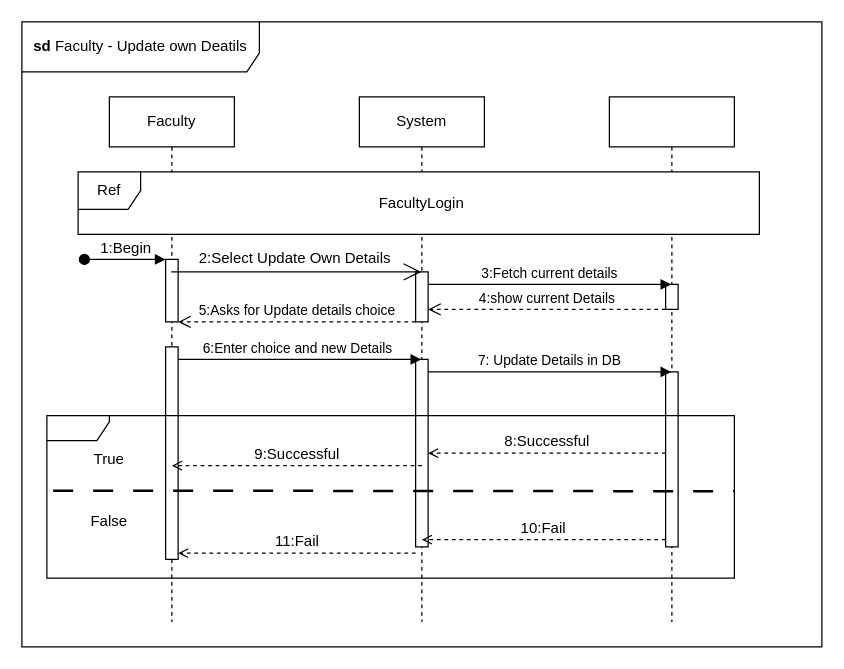
Image size: 844x669. Some labels were removed from this diagram. Each missing label, with the centre of its shape:
alt: the point at 390,496
Database: the point at 671,359
